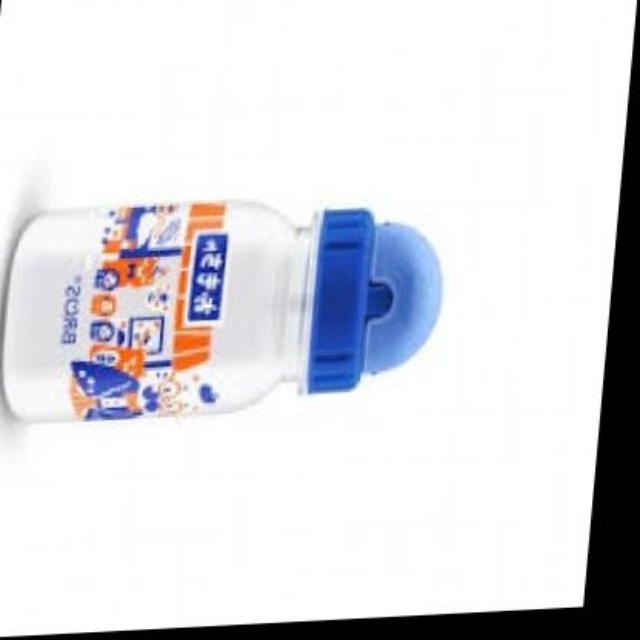trash: (2, 200, 440, 420)
